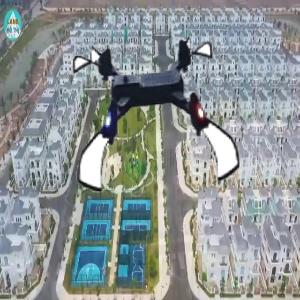drone: (73, 34, 241, 202)
